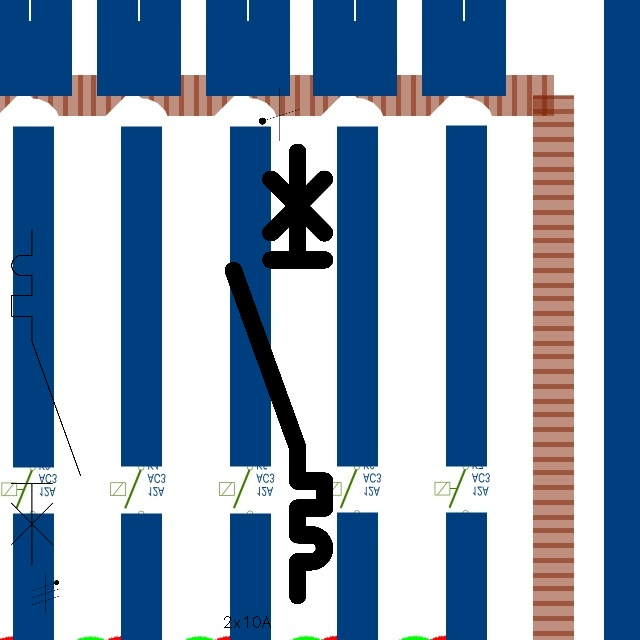interruptor_termomagnetico: (222, 140, 336, 606), (3, 221, 89, 573)
